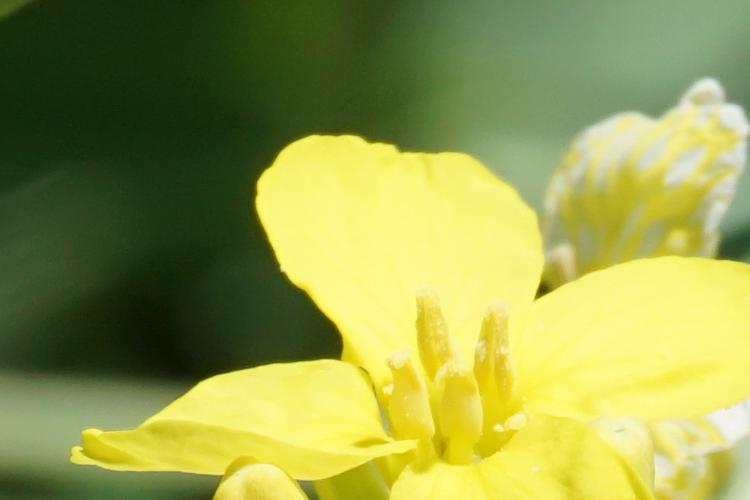yellow: (122, 139, 723, 500)
